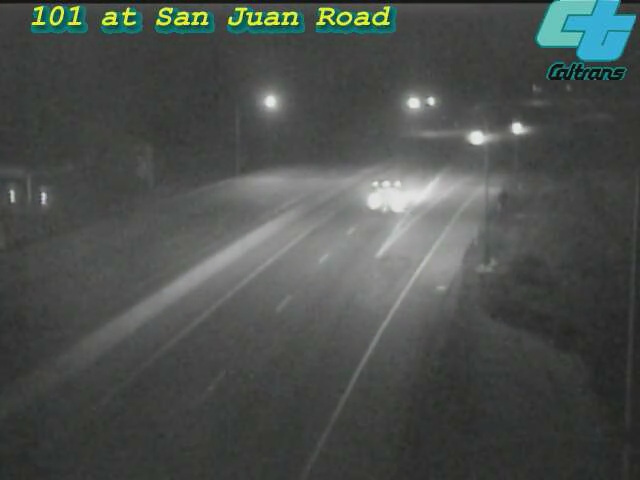vehicle: (348, 154, 428, 234), (487, 105, 537, 155), (456, 111, 506, 161)
